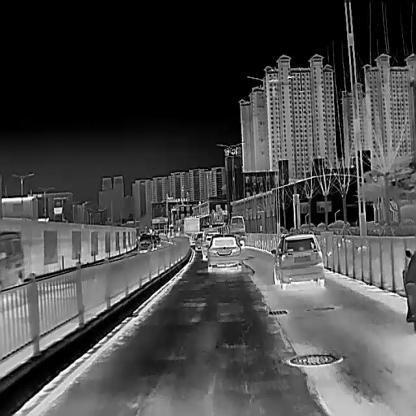car: (271, 232, 325, 289), (0, 231, 23, 301), (207, 232, 241, 273), (173, 216, 199, 235), (203, 230, 219, 260), (229, 215, 245, 233), (139, 234, 154, 250), (194, 232, 201, 250), (154, 234, 161, 247)
